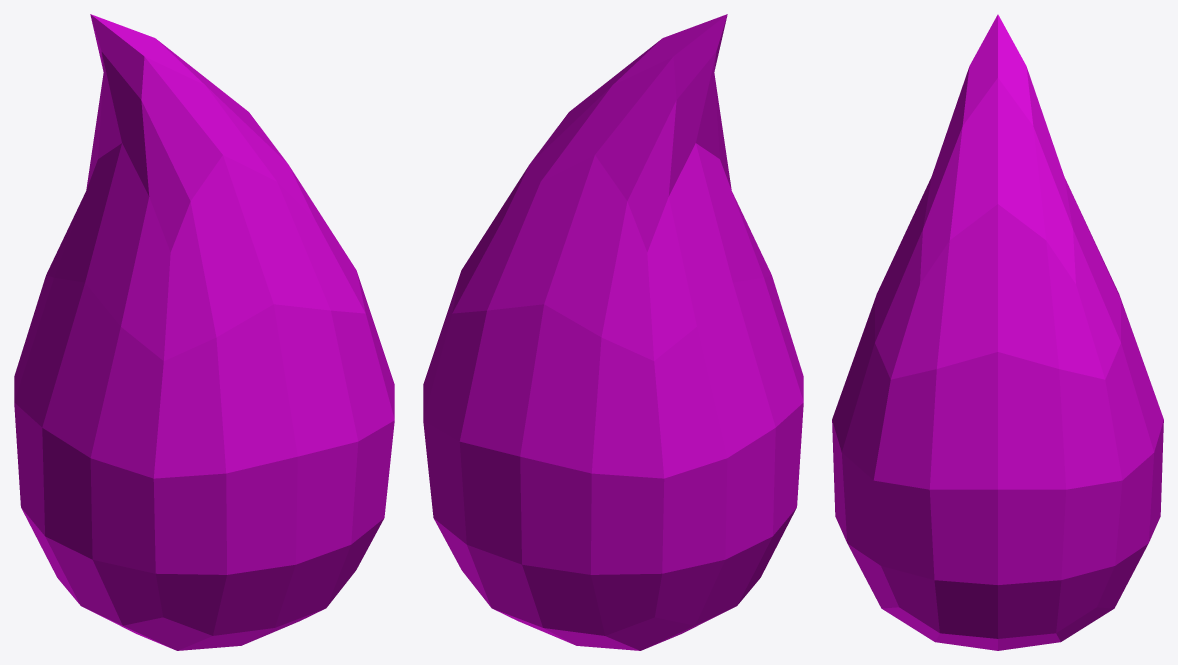
The model's file is seed1.fbx.
3 views of the same model, side by side, from view 1: azimuth 30°, elevation 25°; view 2: azimuth 150°, elevation 25°; view 3: azimuth 270°, elevation 25° (orthographic). The views are drawn at different scales.
Parts seen in each view (by area): view 1: Cube; view 2: Cube; view 3: Cube.
Boxes of the visible parts, x1,y1,x2,y2 form: Cube: (14,14,394,650); Cube: (423,14,803,650); Cube: (832,14,1163,650).
Bounding box in the file's own units: 175 × 332 × 175.
